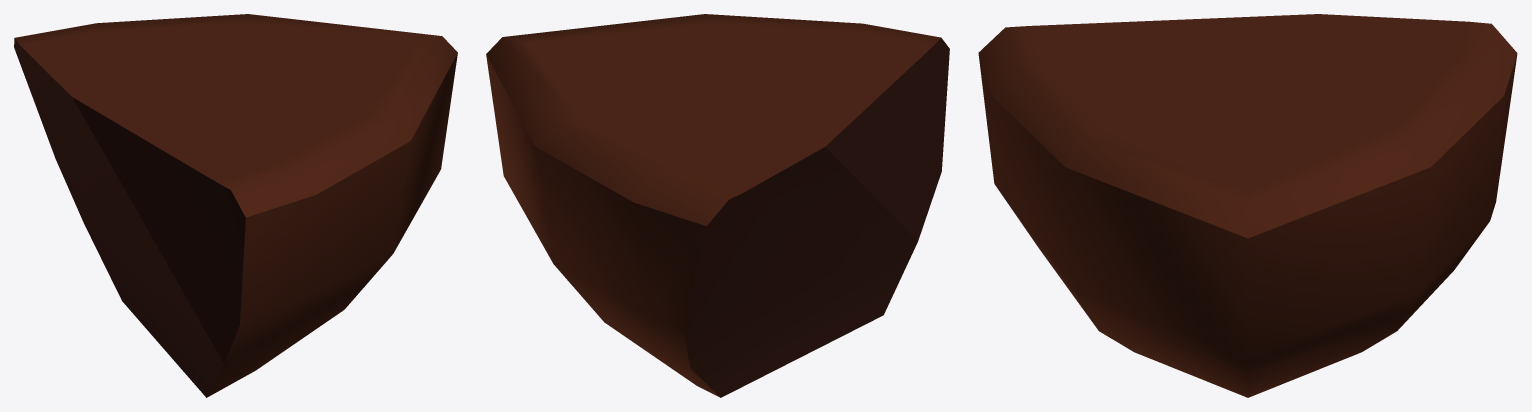
The model's file is BateauPart_Part_3.fbx.
The picture shows the model from 3 angles, left to right: view 1: azimuth 30°, elevation 25°; view 2: azimuth 150°, elevation 25°; view 3: azimuth 270°, elevation 25°; orthographic projection. The views are drawn at different scales.
Visible parts, largest first — view 1: BateauPart_Part_3; view 2: BateauPart_Part_3; view 3: BateauPart_Part_3.
Part boxes in pixels (x1,y1,x2,y2): BateauPart_Part_3: [14, 14, 457, 397]; BateauPart_Part_3: [486, 14, 949, 397]; BateauPart_Part_3: [978, 14, 1517, 397].
Size of the model in its own units: 32.22 by 20.86 by 36.5.
